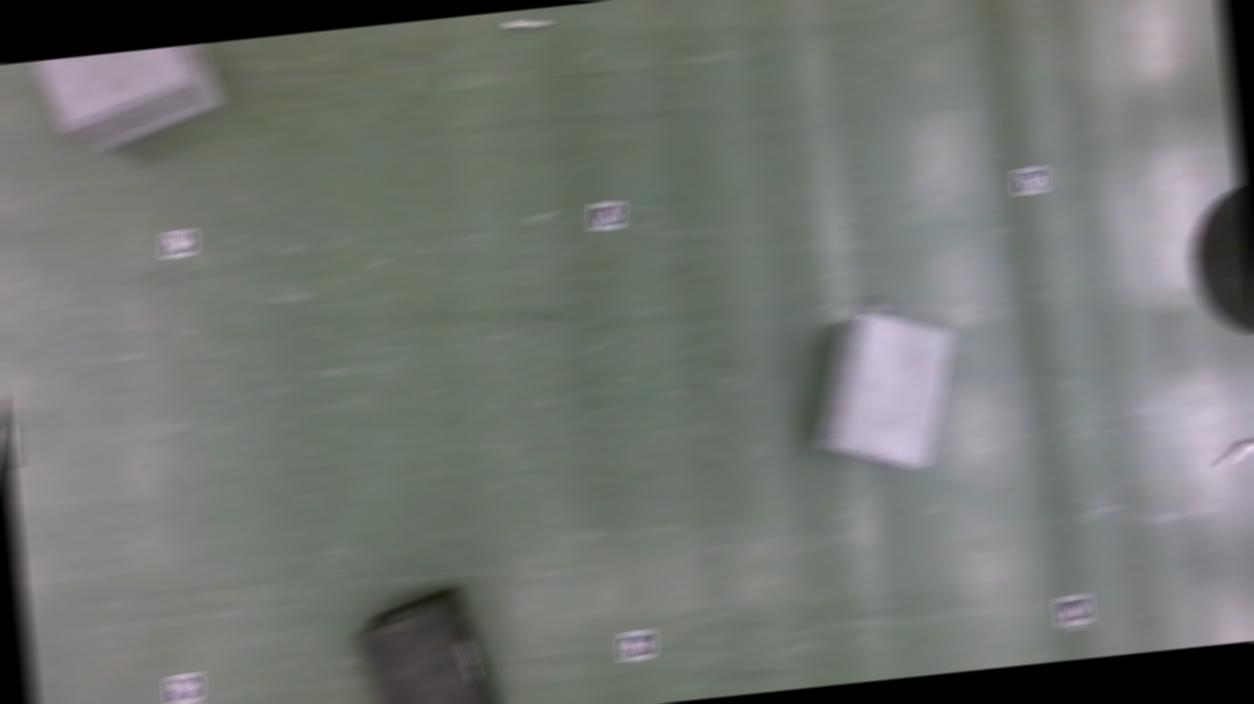probes: (1214, 435, 1254, 464), (2, 424, 20, 470), (503, 16, 551, 30)
rako: (805, 304, 964, 477), (32, 42, 226, 155), (350, 584, 502, 704)
